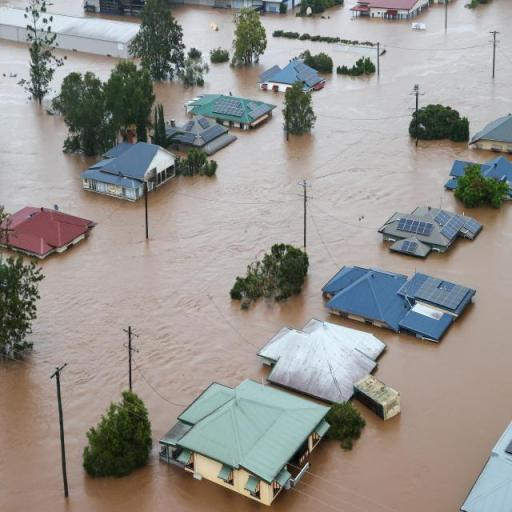flood: (0, 0, 512, 512), (173, 6, 234, 60)
house: (162, 372, 326, 506), (256, 318, 385, 416), (320, 268, 464, 340), (81, 138, 176, 204), (398, 273, 475, 348), (2, 200, 95, 260), (380, 209, 474, 260), (56, 13, 139, 62), (184, 93, 278, 134), (256, 56, 330, 97), (445, 155, 512, 200), (175, 114, 234, 156), (353, 0, 432, 22), (471, 111, 512, 153), (81, 0, 146, 24)
